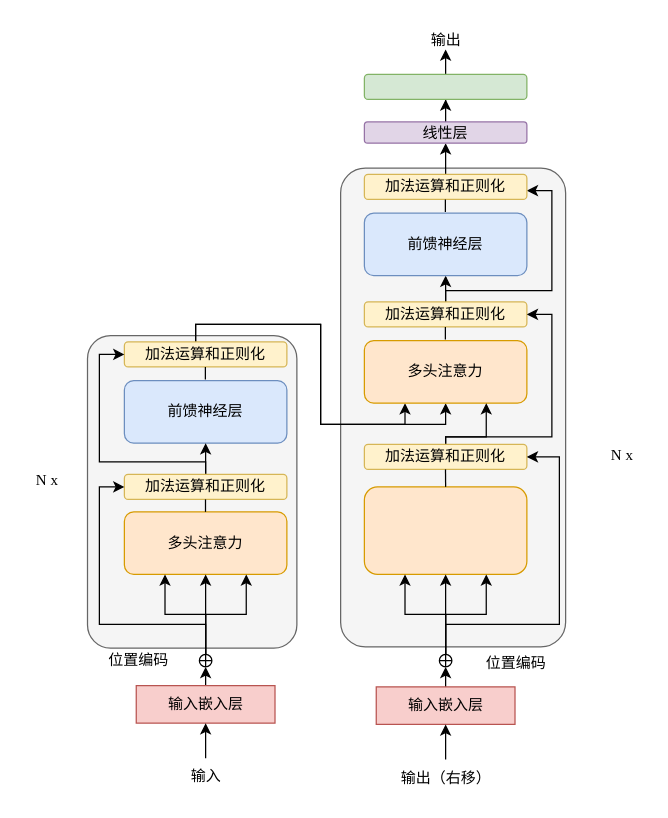
Some shapes in this 668 by 818 pixel diagram are drawn without their labels. The centre of each missing label's shape, as x and y in pixels:
Softmax归一化: pixel 445 86
被掩盖的多头注意力: pixel 445 530
